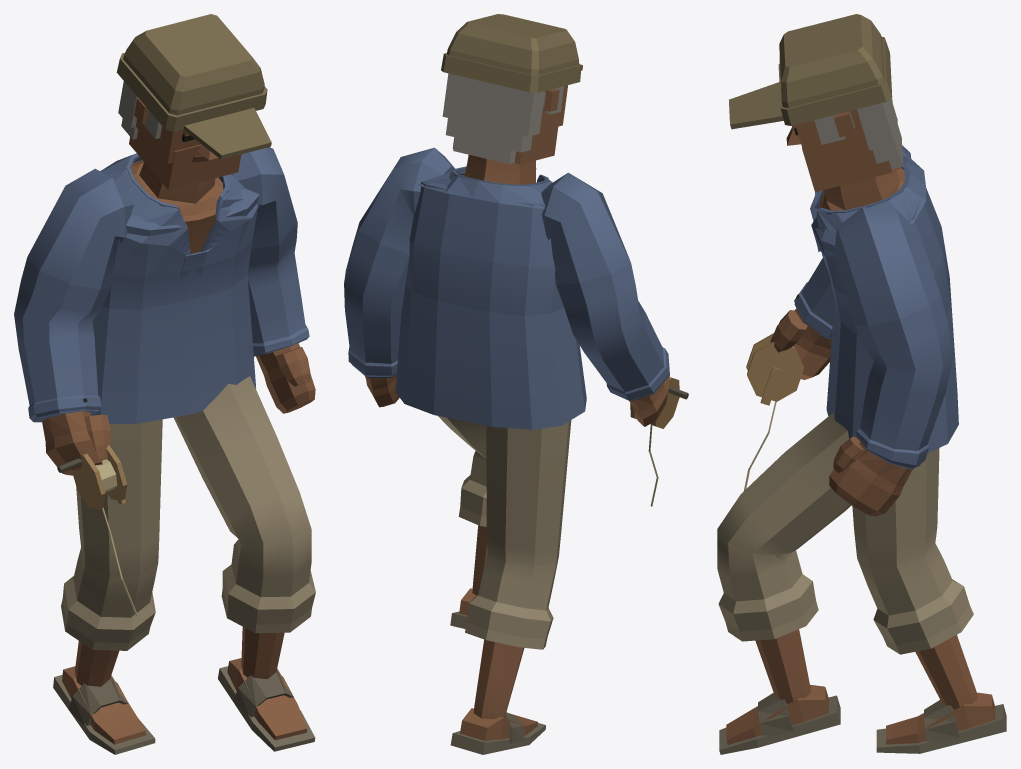
File: hanga-roa-fisherman-e56812__walk7.glb
3 renders of one model, left to right at view 1: azimuth 30°, elevation 25°; view 2: azimuth 150°, elevation 25°; view 3: azimuth 270°, elevation 25°, orthographic. The views are drawn at different scales.
Visible parts, largest first — view 1: hanga-roa-fisherman-e56812__walk7; view 2: hanga-roa-fisherman-e56812__walk7; view 3: hanga-roa-fisherman-e56812__walk7.
Part boxes in pixels (x1,y1,x2,y2): hanga-roa-fisherman-e56812__walk7: [14, 14, 315, 754]; hanga-roa-fisherman-e56812__walk7: [344, 14, 688, 754]; hanga-roa-fisherman-e56812__walk7: [717, 14, 1006, 754].
Bounding box in the file's own units: 0.7539 × 1.71 × 0.6129.
